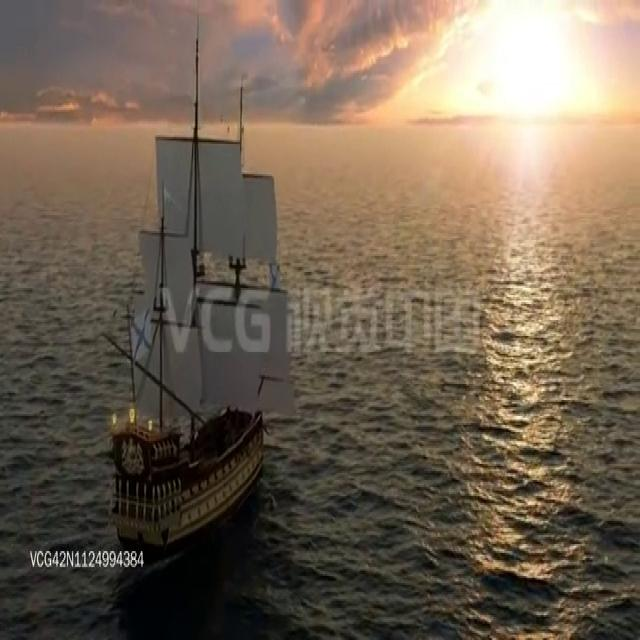sailboat: (96, 22, 283, 535)
